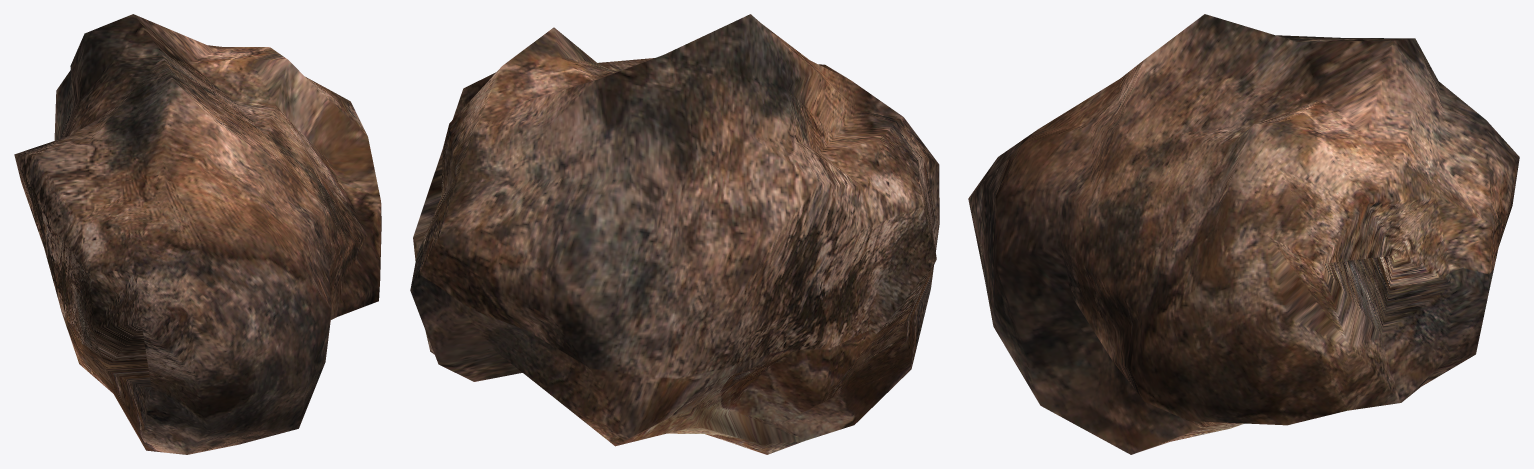
File: Asteroid 3.fbx
3 views of the same model, side by side, from view 1: azimuth 30°, elevation 25°; view 2: azimuth 150°, elevation 25°; view 3: azimuth 270°, elevation 25° (orthographic). The views are drawn at different scales.
Visible parts, largest first — view 1: asteroid_115; view 2: asteroid_115; view 3: asteroid_115.
Boxes of the visible parts, x1,y1,x2,y2 form: asteroid_115: (14, 14, 381, 454); asteroid_115: (410, 14, 939, 454); asteroid_115: (968, 14, 1519, 454).
Size of the model in its own units: 49.2 by 51.48 by 62.66.
